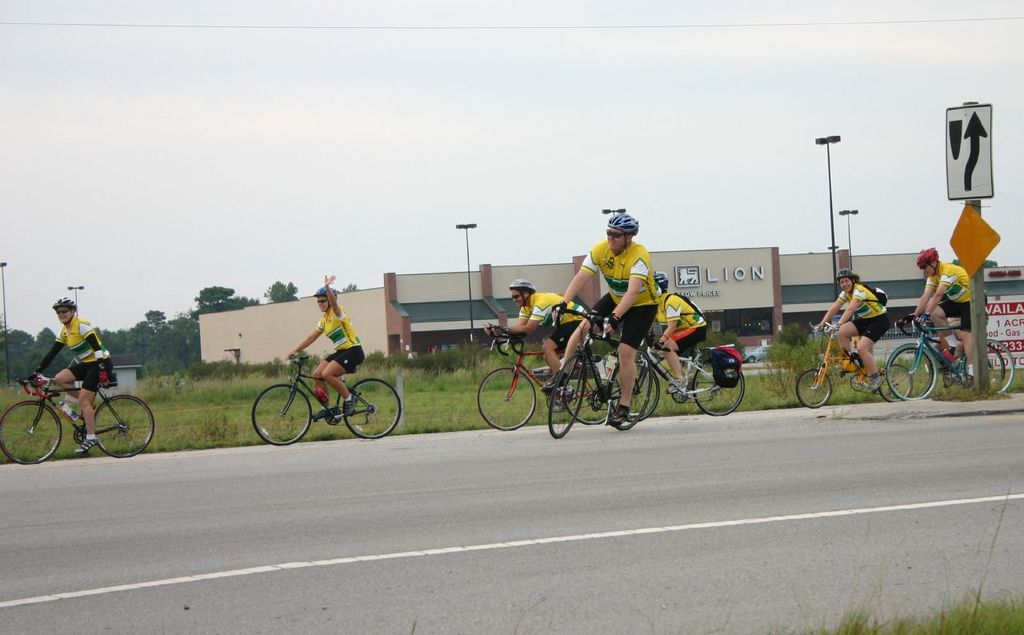Bike_toward: (261, 357, 418, 458)
